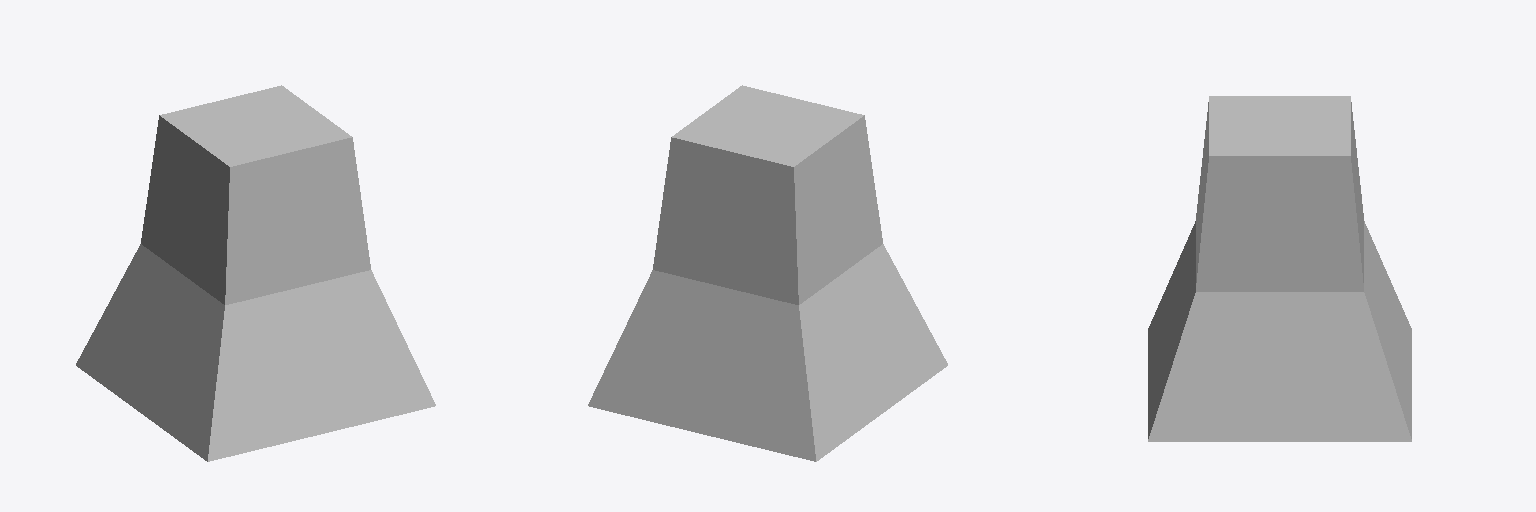
File: body.obj
3 renders of one model, left to right at view 1: azimuth 30°, elevation 25°; view 2: azimuth 150°, elevation 25°; view 3: azimuth 270°, elevation 25°, orthographic.
Visible parts, largest first — view 1: 立方体.001; view 2: 立方体.001; view 3: 立方体.001.
Boxes of the visible parts, x1,y1,x2,y2 form: 立方体.001: [76, 85, 435, 461]; 立方体.001: [588, 85, 947, 461]; 立方体.001: [1148, 96, 1411, 441].
Size of the model in its own units: 1.04 by 1.13 by 1.04.